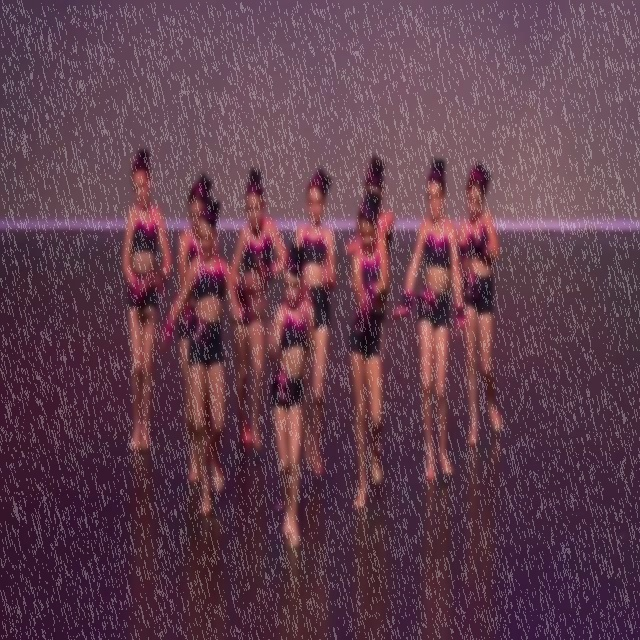pessoa: (154, 198, 270, 518), (389, 154, 467, 483), (221, 166, 289, 452), (120, 146, 174, 454), (264, 240, 317, 550), (342, 150, 394, 459), (292, 165, 339, 480), (346, 187, 389, 513), (456, 158, 504, 447), (177, 178, 220, 482)
